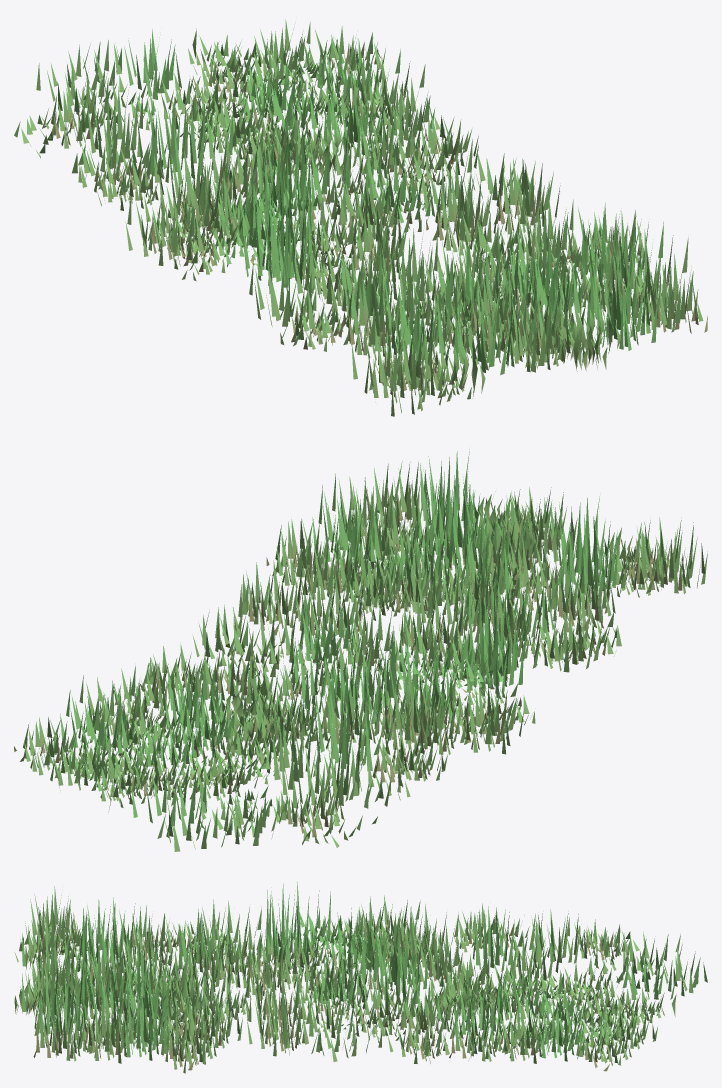
File: grass_2m.fbx
3 renders of one model, top to bottom at view 1: azimuth 30°, elevation 25°; view 2: azimuth 150°, elevation 25°; view 3: azimuth 270°, elevation 25°, orthographic. The views are drawn at different scales.
Parts seen in each view (by area): view 1: grass_2m; view 2: grass_2m; view 3: grass_2m.
Part boxes in pixels (x1,y1,x2,y2): grass_2m: [14, 19, 707, 416]; grass_2m: [14, 449, 707, 851]; grass_2m: [14, 881, 707, 1073].
Size of the model in its own units: 102 by 24.04 by 203.
